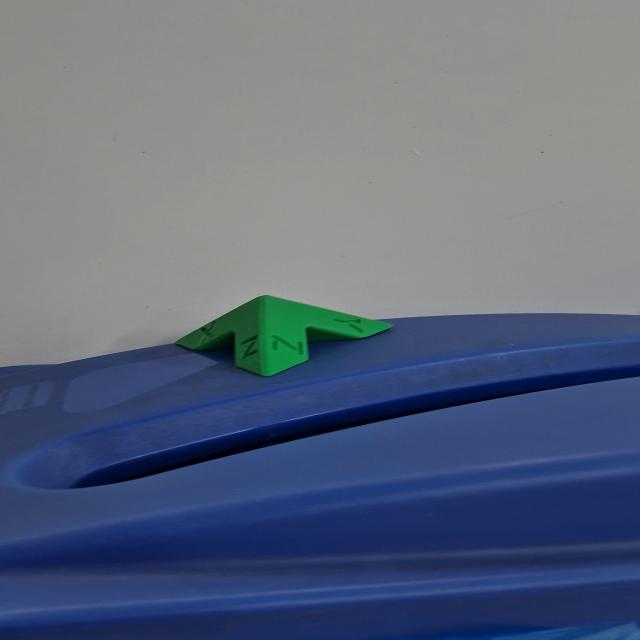objects: (170, 292, 396, 378)
